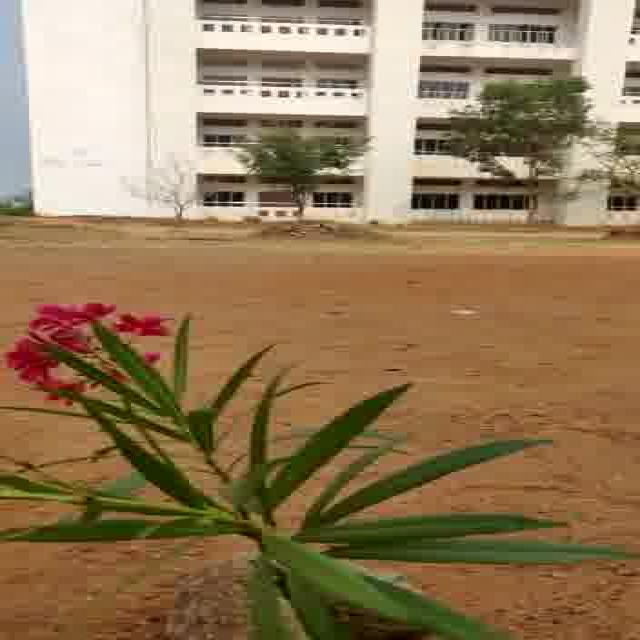Oleander: (0, 297, 554, 640)
